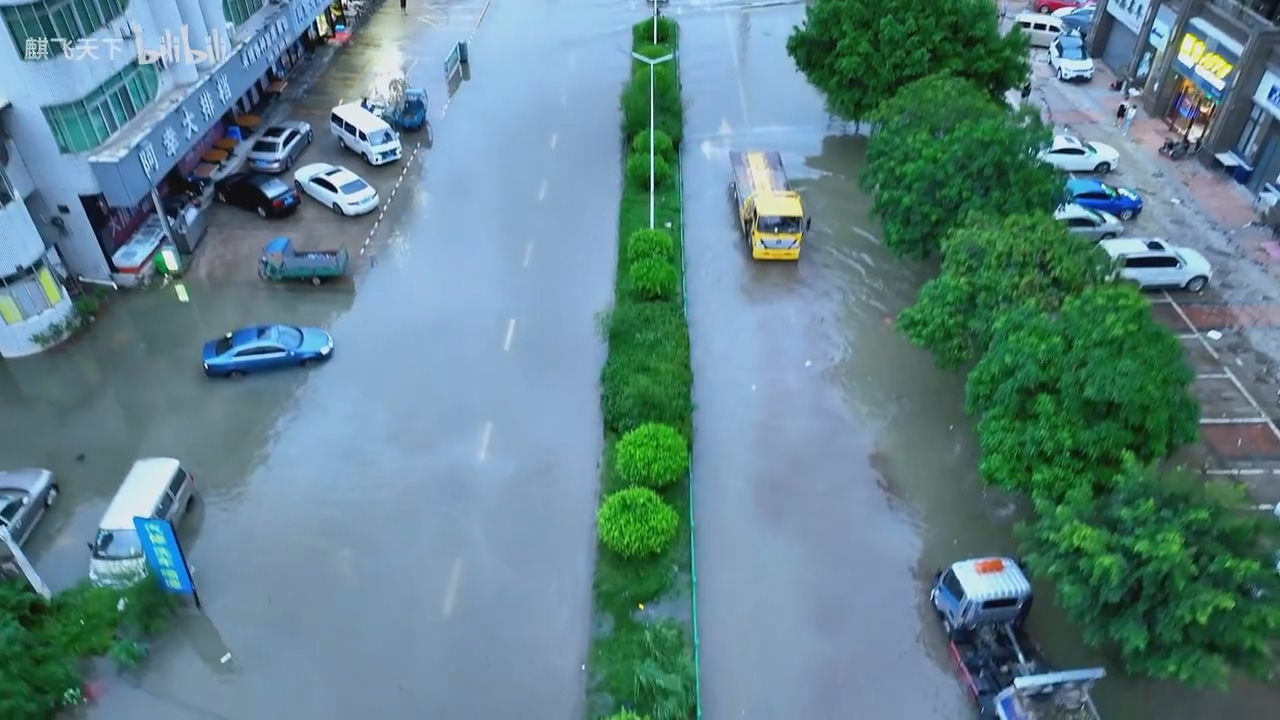puddle: (288, 127, 910, 720)
